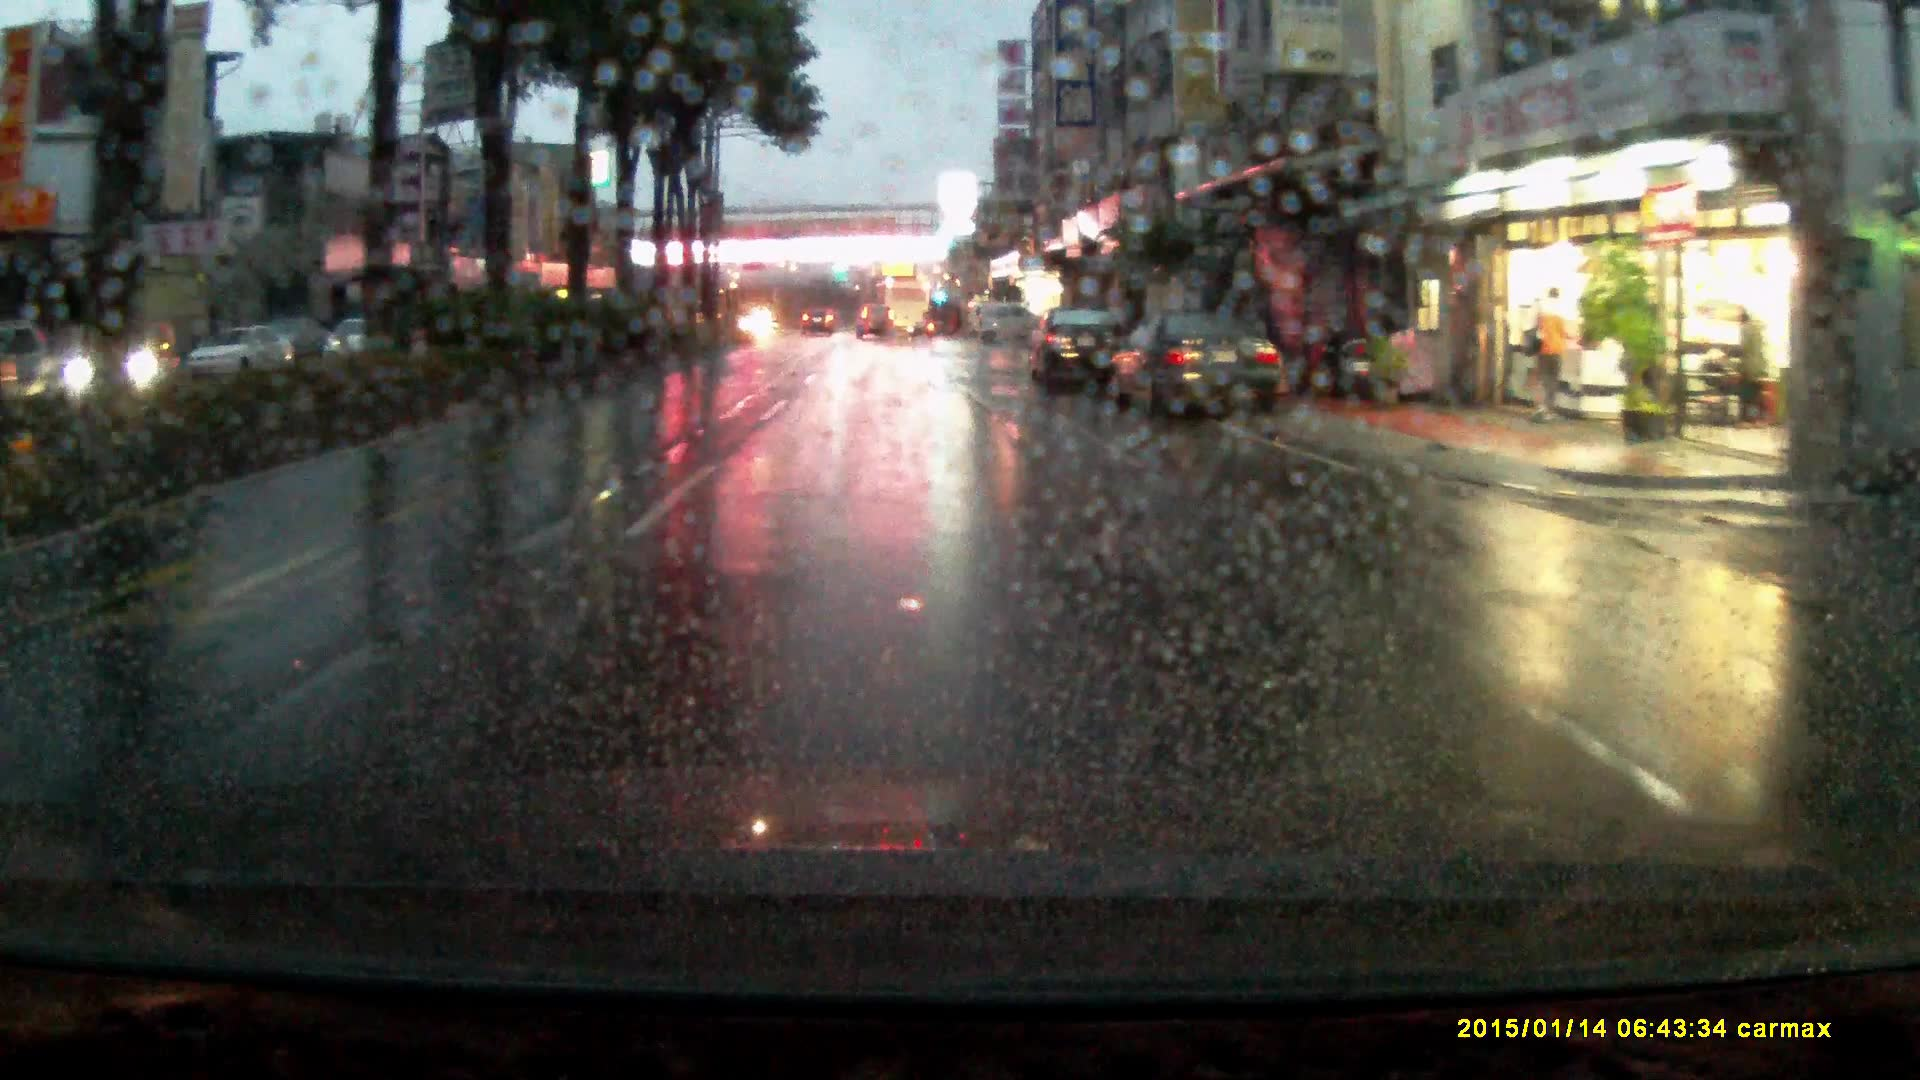vehicle: (1101, 305, 1288, 414), (1031, 302, 1130, 393), (183, 324, 301, 381), (968, 301, 1044, 345), (874, 280, 931, 335), (324, 314, 392, 357), (857, 301, 897, 335), (803, 301, 840, 330)
